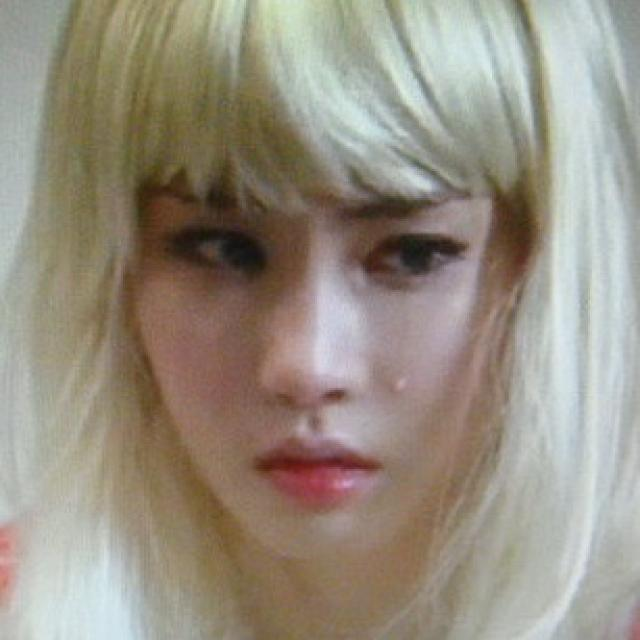Depress: (128, 176, 528, 569)
